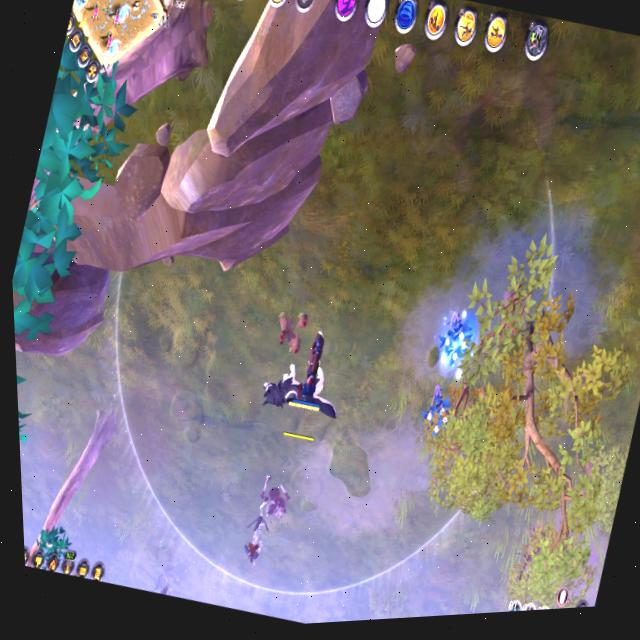hide: (418, 291, 496, 385), (414, 371, 470, 442)
ore: (231, 483, 287, 577), (148, 573, 181, 598)
red: (280, 318, 343, 421)
wisp caged: (0, 0, 253, 536), (17, 371, 134, 581)
